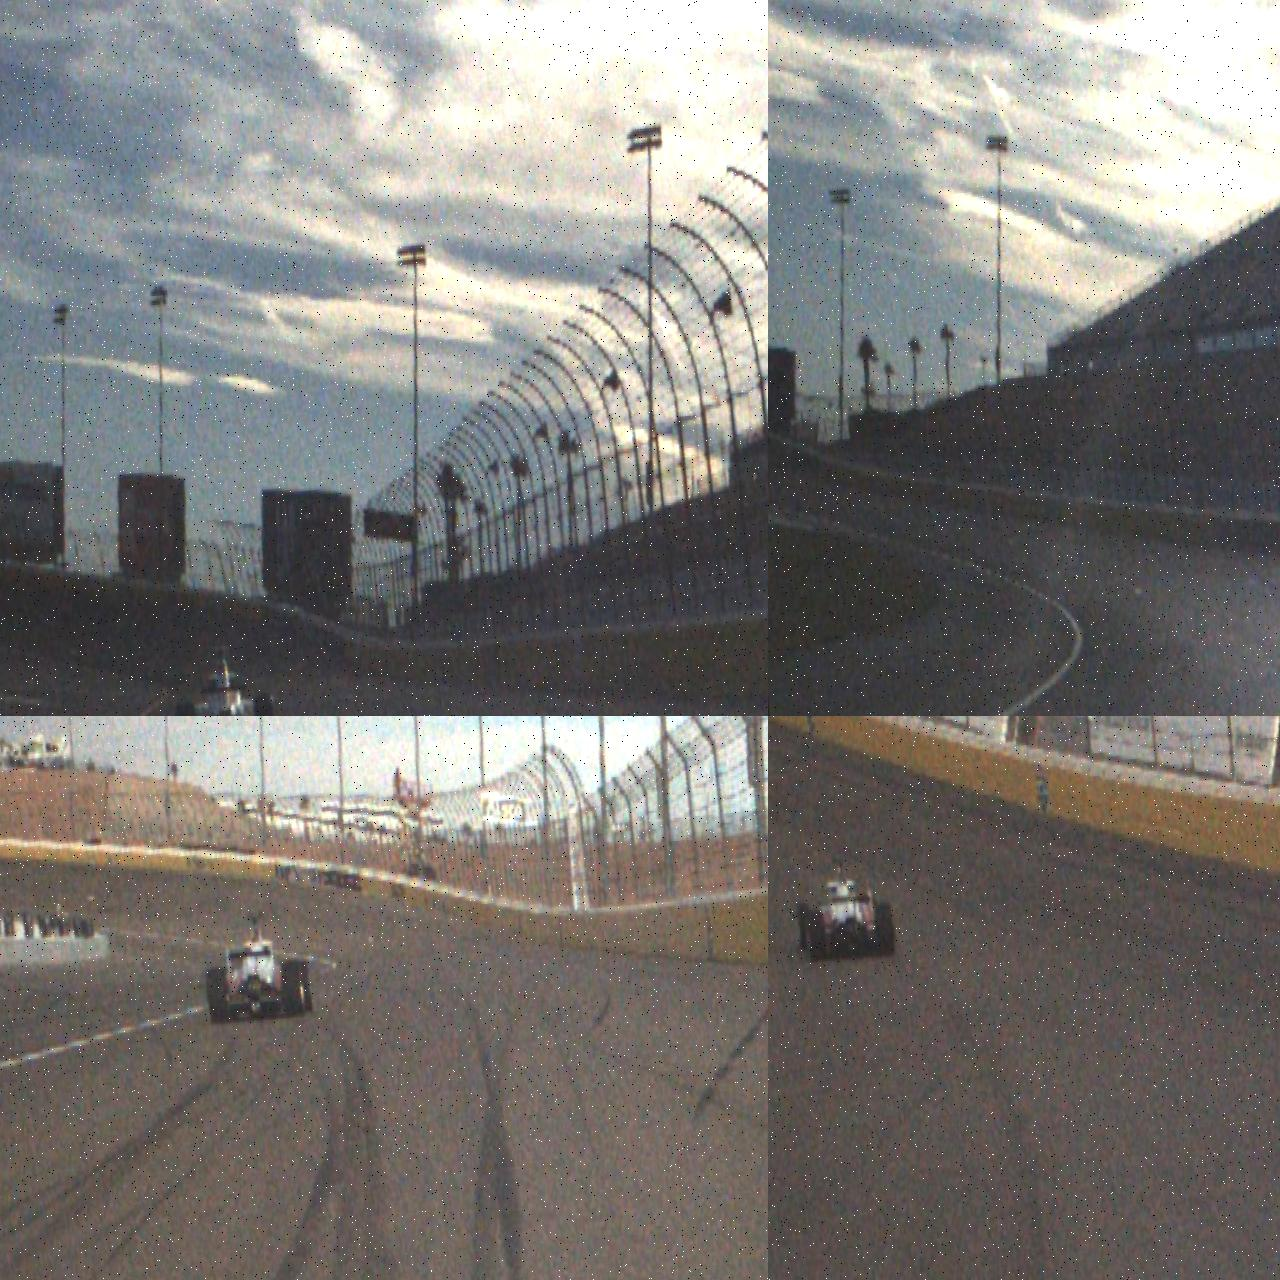AV: (200, 910, 315, 1028), (791, 851, 898, 966), (169, 639, 278, 716)
Wheel: (280, 959, 306, 1020), (205, 967, 231, 1027), (874, 901, 898, 958), (805, 910, 828, 965), (795, 901, 813, 951), (253, 692, 278, 716), (173, 701, 199, 716)
